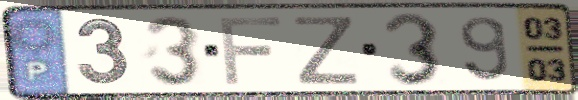3: (139, 13, 205, 90), (381, 10, 445, 89), (73, 15, 132, 89)
9: (457, 14, 512, 84)
F: (216, 14, 286, 87)
Z: (291, 14, 361, 87)
